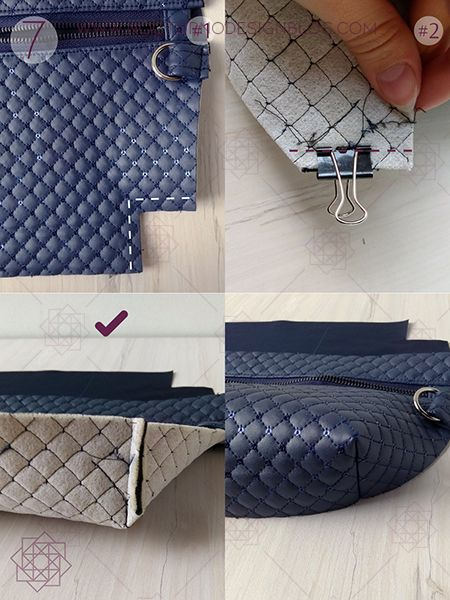cuero: (2, 1, 450, 530)
